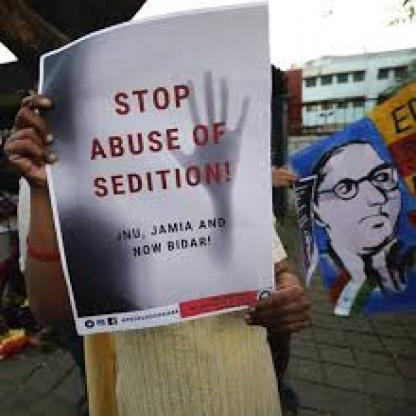BANNER: (21, 0, 274, 338)
